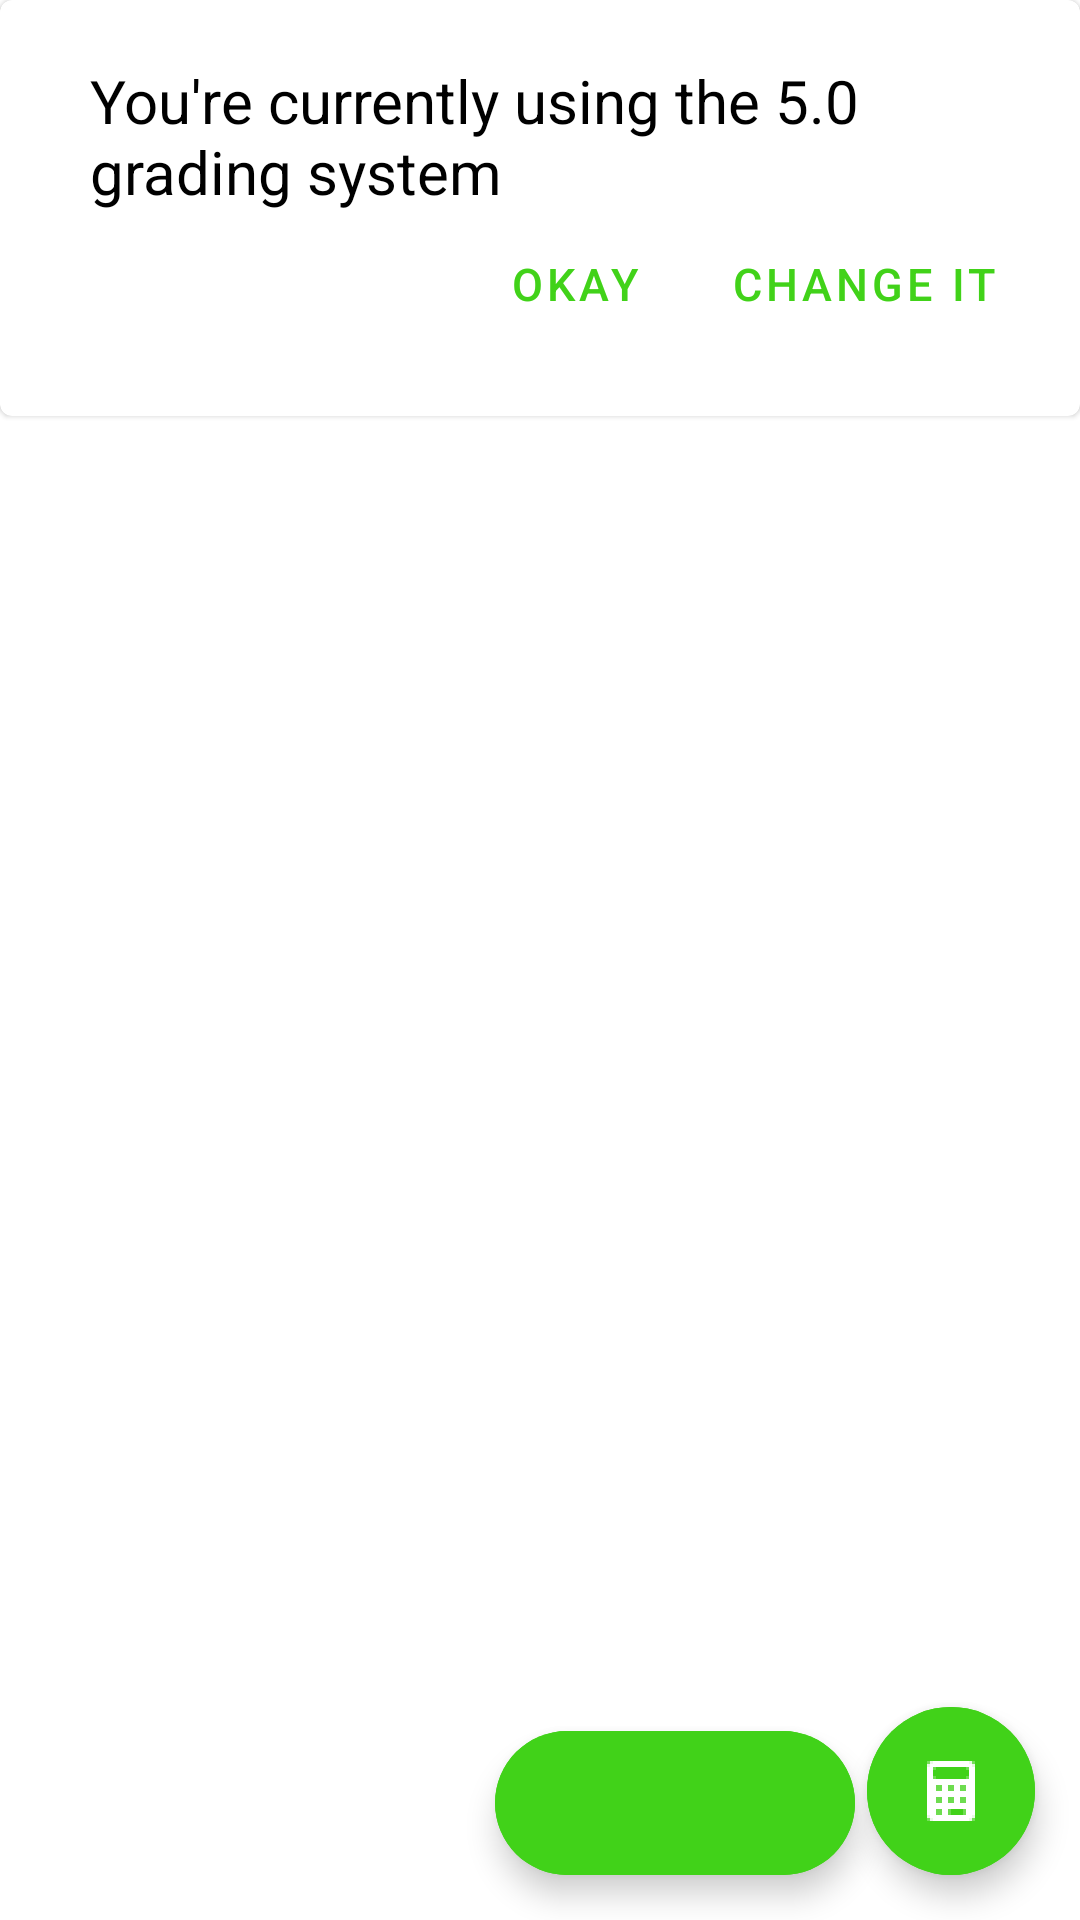

Point at icon controls on the screen. Image size 1080*1920, points as [x,y].
calculatr: [951,1791]
